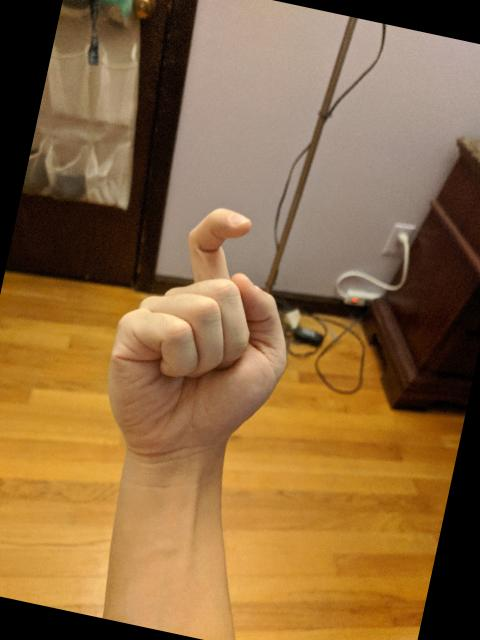X: (84, 186, 324, 488)
